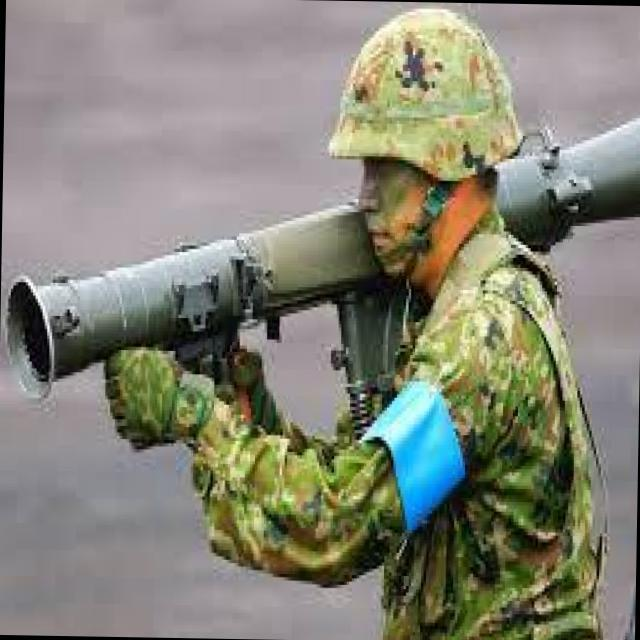rocket: (2, 192, 370, 403)
